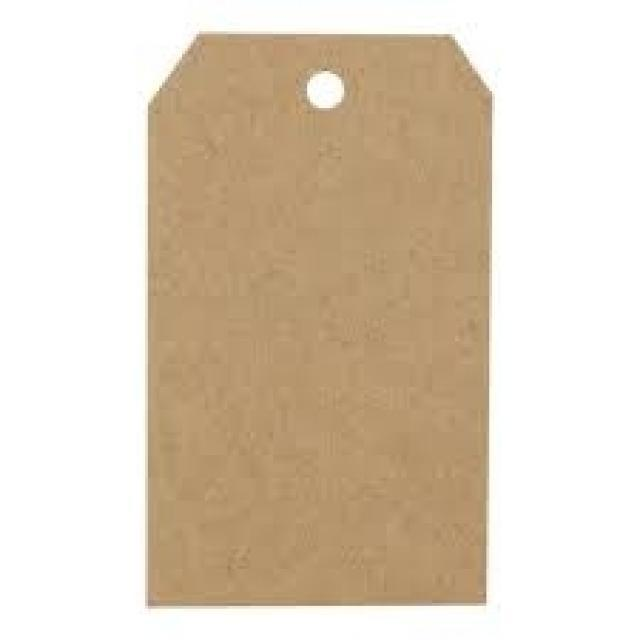cardboard paper: (148, 33, 489, 603)
